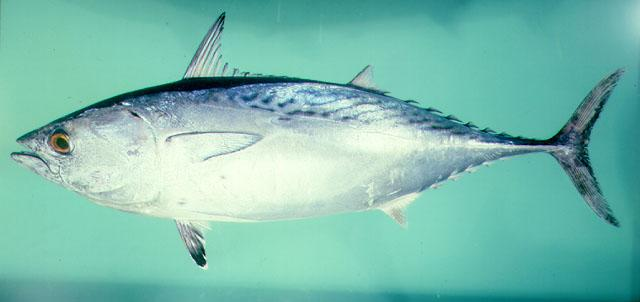Mulut: (1, 121, 46, 186)
Sirip Anal: (375, 184, 427, 240)
Sirip Dada: (164, 126, 266, 166)
Sirip Ekor: (548, 61, 630, 235)
Sirip Perut: (172, 215, 218, 275)
Sirip Punggung: (180, 7, 386, 100)
